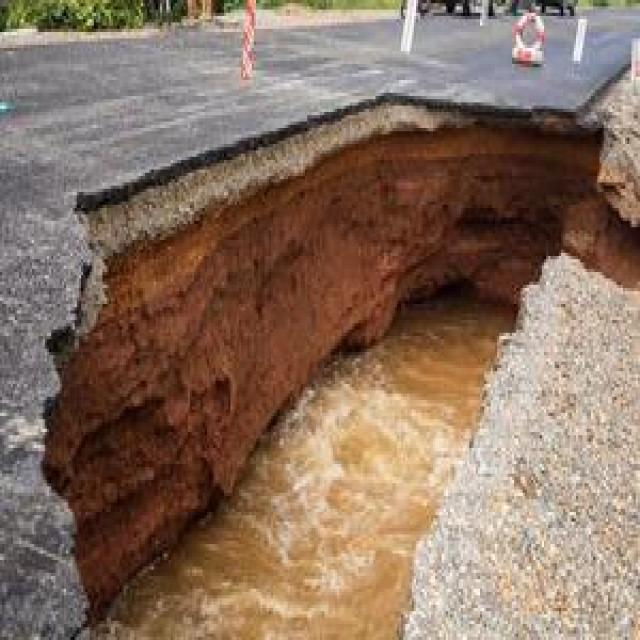road collapse: (24, 66, 640, 640)
